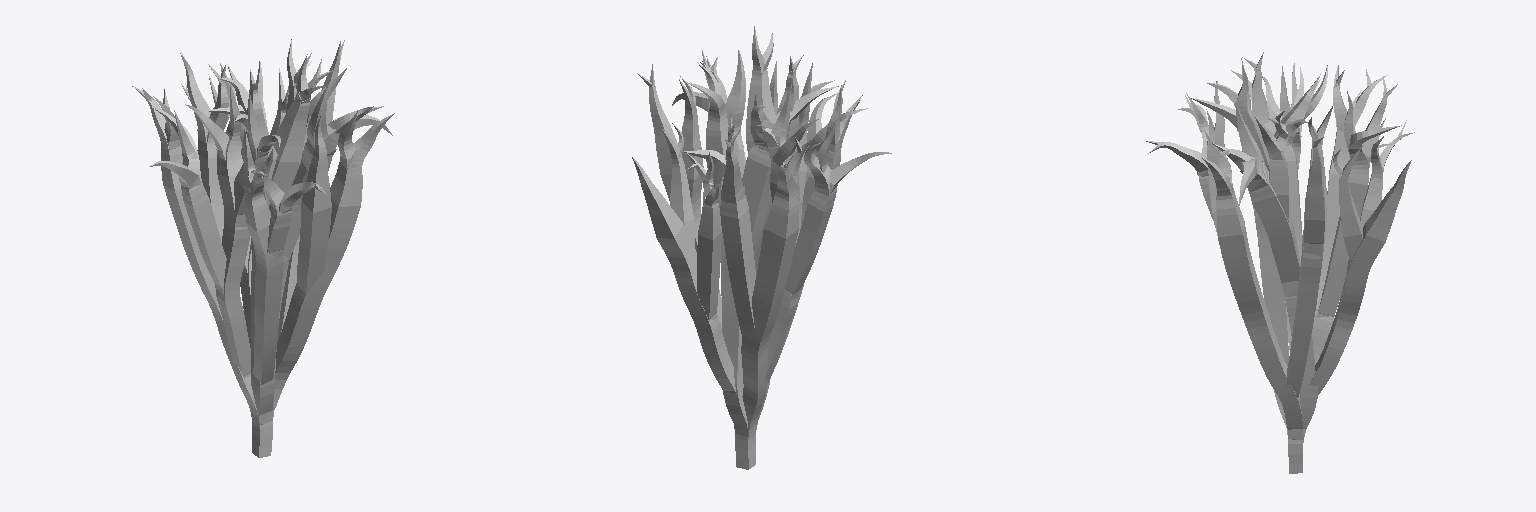
The model's file is bendytree_000002.obj.
3 renders of one model, left to right at view 1: azimuth 30°, elevation 25°; view 2: azimuth 150°, elevation 25°; view 3: azimuth 270°, elevation 25°, orthographic.
Visible parts, largest first — view 1: treemesh_treemesh.001; view 2: treemesh_treemesh.001; view 3: treemesh_treemesh.001.
Part boxes in pixels (left/top/right/bottom): treemesh_treemesh.001: left=132, top=39, right=394, bottom=457; treemesh_treemesh.001: left=632, top=26, right=891, bottom=469; treemesh_treemesh.001: left=1146, top=52, right=1414, bottom=473.
Size of the model in its own units: 3.84 by 6.51 by 3.85.